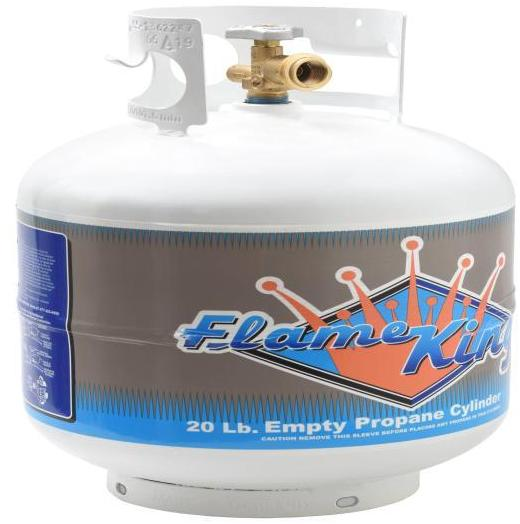cylinder: (1, 1, 520, 524)
